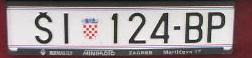-: (173, 25, 182, 31)
1: (110, 12, 119, 45)
2: (128, 12, 147, 45)
4: (150, 12, 170, 44)
B: (185, 12, 203, 44)
I: (63, 13, 70, 44)
P: (207, 11, 225, 43)
S: (34, 14, 54, 45)
